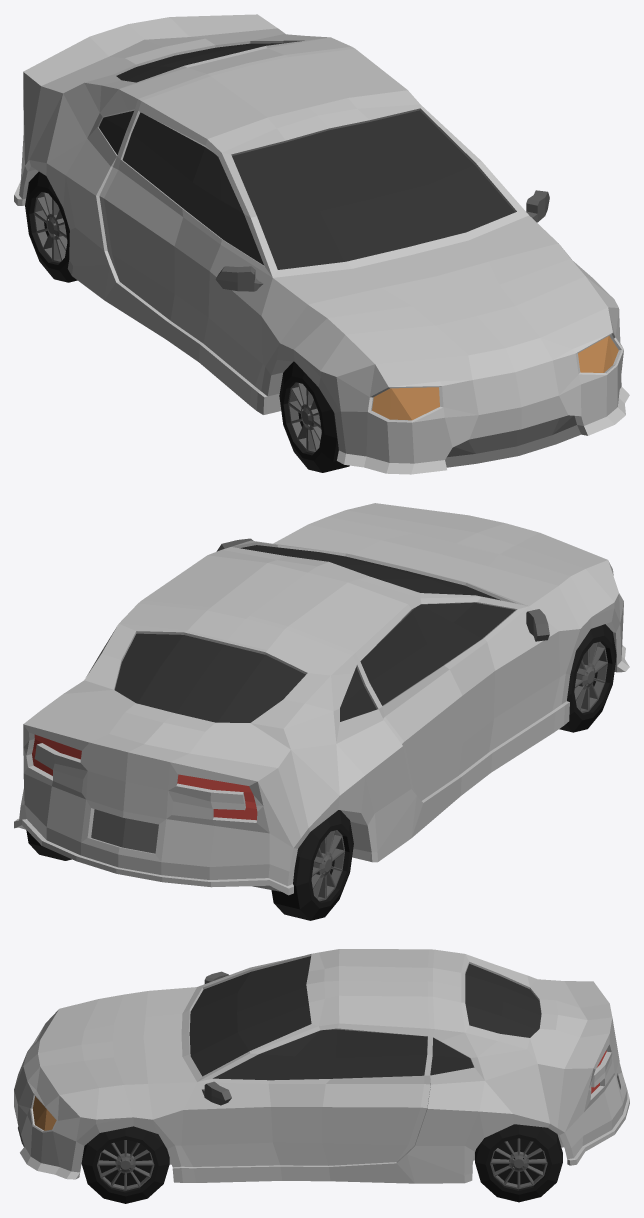
Rendered from sports.glb.
3 views of the same model, one above another, from view 1: azimuth 30°, elevation 25°; view 2: azimuth 150°, elevation 25°; view 3: azimuth 270°, elevation 25° (orthographic). The views are drawn at different scales.
Parts seen in each view (by area): view 1: SportsCar2_Cube.006; view 2: SportsCar2_Cube.006; view 3: SportsCar2_Cube.006.
Boxes of the visible parts, <box> form: SportsCar2_Cube.006: <box>14,14,629,474</box>; SportsCar2_Cube.006: <box>14,503,629,920</box>; SportsCar2_Cube.006: <box>14,949,629,1203</box>.
Bounding box in the file's own units: 1.87 × 1.2 × 3.93.
Materials: 1 (1 with a texture image).
